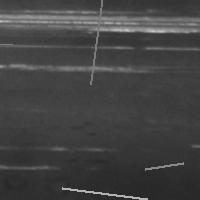scratches: (1, 7, 199, 37), (1, 60, 170, 75), (86, 0, 108, 89), (57, 183, 152, 200), (1, 158, 62, 176), (140, 158, 188, 174), (0, 39, 17, 50)
